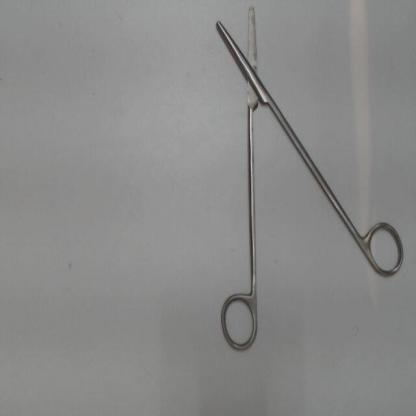9 Metzenbaum Scissors: (210, 3, 409, 358)
